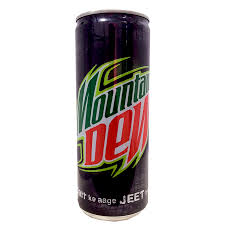can: (71, 9, 152, 220)
